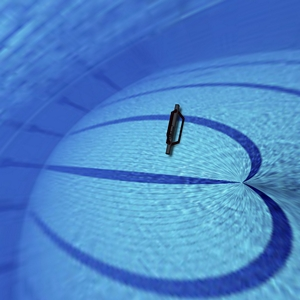submarine: (159, 94, 194, 162)
